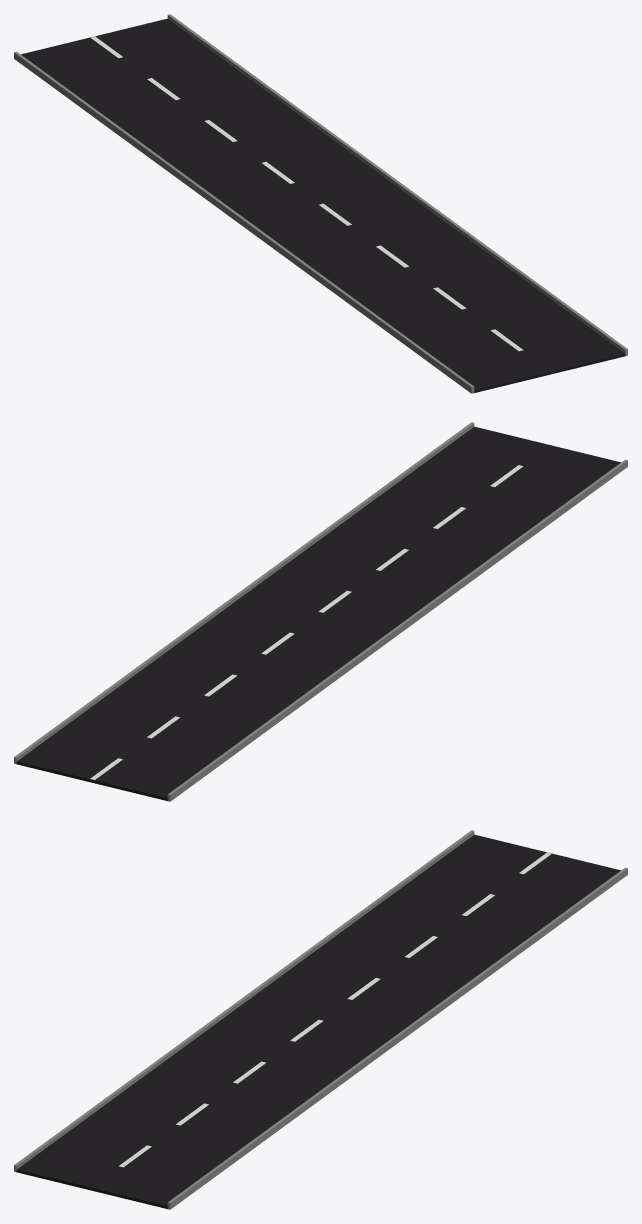
The model's file is road_smallcity.fbx.
3 views of the same model, one above another, from view 1: azimuth 30°, elevation 25°; view 2: azimuth 150°, elevation 25°; view 3: azimuth 330°, elevation 25° (orthographic).
Parts seen in each view (by area): view 1: road.001; view 2: road.001; view 3: road.001.
Boxes of the visible parts, <box> form: road.001: <box>14,14,627,393</box>; road.001: <box>14,422,627,801</box>; road.001: <box>14,830,627,1209</box>.
Bounding box in the file's own units: 294 × 11.79 × 1489.
Materials: 1 (1 with a texture image).
